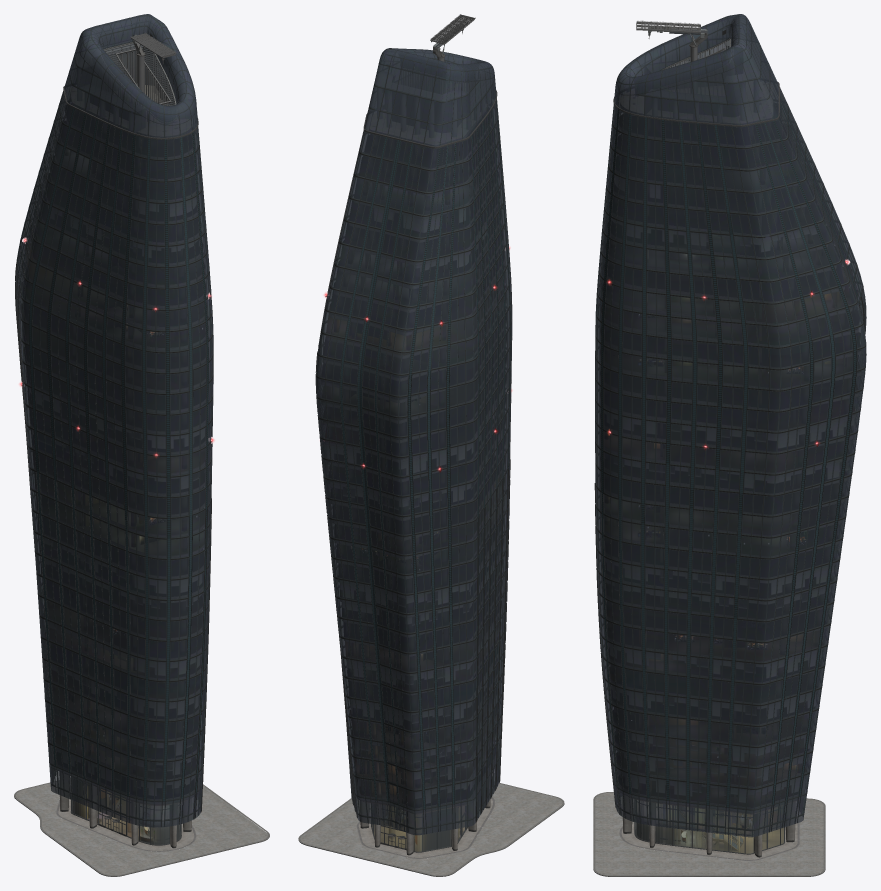
The model's file is skyline.glb.
3 views of the same model, side by side, from view 1: azimuth 30°, elevation 25°; view 2: azimuth 150°, elevation 25°; view 3: azimuth 270°, elevation 25° (orthographic). The views are drawn at different scales.
Visible parts, largest first — view 1: Glass_Generic_Glass_Generic_0, Building_Facade_Building_Facade_0, Interior_Top_Interior_Top_0, Glass_Generic_More_Opaque_Glass_Generic_More_Opaque_0, Sidewalk_02_Sidewalk_02_0, Interior_Blinds_Interior_Blinds_0, Top_Piece_Top_Piece_0, Sidewalk_01_Sidewalk_01_0, Concrete_Pillar_Concrete_Pillar_0, Glass_Lobby_Glass_Lobby_0, Building_Maintenance_Unit_Building_Maintenance_Unit_0, Lobby_Curtains_Lobby_Curtains_0; view 2: Glass_Generic_Glass_Generic_0, Building_Facade_Building_Facade_0, Interior_Top_Interior_Top_0, Glass_Generic_More_Opaque_Glass_Generic_More_Opaque_0, Sidewalk_02_Sidewalk_02_0, Interior_Blinds_Interior_Blinds_0, Top_Piece_Top_Piece_0, Sidewalk_01_Sidewalk_01_0, Concrete_Pillar_Concrete_Pillar_0, Glass_Lobby_Glass_Lobby_0, Building_Maintenance_Unit_Building_Maintenance_Unit_0, Lobby_Curtains_Lobby_Curtains_0; view 3: Glass_Generic_Glass_Generic_0, Building_Facade_Building_Facade_0, Interior_Top_Interior_Top_0, Glass_Generic_More_Opaque_Glass_Generic_More_Opaque_0, Interior_Blinds_Interior_Blinds_0, Sidewalk_02_Sidewalk_02_0, Top_Piece_Top_Piece_0, Sidewalk_01_Sidewalk_01_0, Glass_Lobby_Glass_Lobby_0, Concrete_Pillar_Concrete_Pillar_0, Building_Maintenance_Unit_Building_Maintenance_Unit_0, Lobby_Curtains_Lobby_Curtains_0 (+2 smaller).
Boxes of the visible parts, x1,y1,x2,y2 form: Glass_Generic_Glass_Generic_0: (15,91,213,827); Building_Facade_Building_Facade_0: (15,14,213,845); Interior_Top_Interior_Top_0: (21,104,208,798); Glass_Generic_More_Opaque_Glass_Generic_More_Opaque_0: (64,14,197,137); Sidewalk_02_Sidewalk_02_0: (16,779,267,875); Interior_Blinds_Interior_Blinds_0: (29,158,205,795); Top_Piece_Top_Piece_0: (70,40,195,135); Sidewalk_01_Sidewalk_01_0: (14,780,269,876); Concrete_Pillar_Concrete_Pillar_0: (59,772,191,848); Glass_Lobby_Glass_Lobby_0: (71,787,181,844); Building_Maintenance_Unit_Building_Maintenance_Unit_0: (130,32,176,93); Lobby_Curtains_Lobby_Curtains_0: (73,790,179,844); Glass_Generic_Glass_Generic_0: (316,100,512,835); Building_Facade_Building_Facade_0: (315,48,512,852); Interior_Top_Interior_Top_0: (321,107,506,807); Glass_Generic_More_Opaque_Glass_Generic_More_Opaque_0: (364,48,496,146); Sidewalk_02_Sidewalk_02_0: (300,783,562,875); Interior_Blinds_Interior_Blinds_0: (326,207,502,803); Top_Piece_Top_Piece_0: (370,68,494,144); Sidewalk_01_Sidewalk_01_0: (298,783,564,876); Concrete_Pillar_Concrete_Pillar_0: (360,782,490,855); Glass_Lobby_Glass_Lobby_0: (371,804,466,852); Building_Maintenance_Unit_Building_Maintenance_Unit_0: (430,14,475,61); Lobby_Curtains_Lobby_Curtains_0: (417,817,459,851); Glass_Generic_Glass_Generic_0: (595,88,866,837); Building_Facade_Building_Facade_0: (594,14,866,854); Interior_Top_Interior_Top_0: (600,103,860,807); Glass_Generic_More_Opaque_Glass_Generic_More_Opaque_0: (614,14,778,124); Interior_Blinds_Interior_Blinds_0: (604,175,854,802); Sidewalk_02_Sidewalk_02_0: (595,792,823,875); Top_Piece_Top_Piece_0: (620,38,772,122); Sidewalk_01_Sidewalk_01_0: (593,792,825,876); Glass_Lobby_Glass_Lobby_0: (634,801,784,853); Concrete_Pillar_Concrete_Pillar_0: (622,795,795,857); Building_Maintenance_Unit_Building_Maintenance_Unit_0: (636,20,707,93); Lobby_Curtains_Lobby_Curtains_0: (637,821,739,852).
Bounding box in the file's own units: 37.24 × 167 × 50.93.
20 materials, 18 textured.
